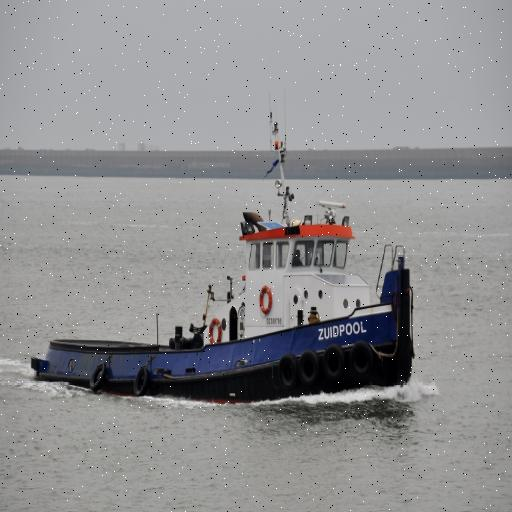tugboat: (30, 89, 420, 414)
